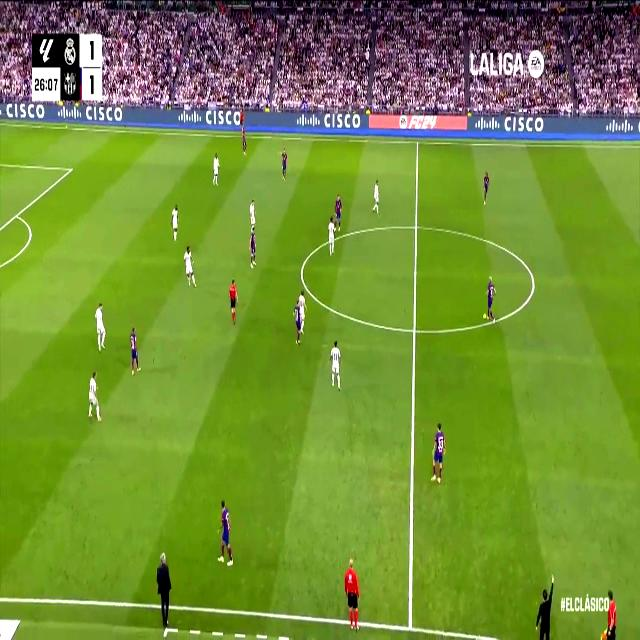bigarea_top_inner: (68, 162, 74, 176)
halfcircle_bottom: (409, 317, 420, 343)
halfcircle_top: (411, 215, 422, 238)
midline_bottom_intersection: (401, 612, 419, 638)
midline_top_intersection: (415, 135, 421, 149)
top_arc_area_intersection: (12, 206, 20, 222)
